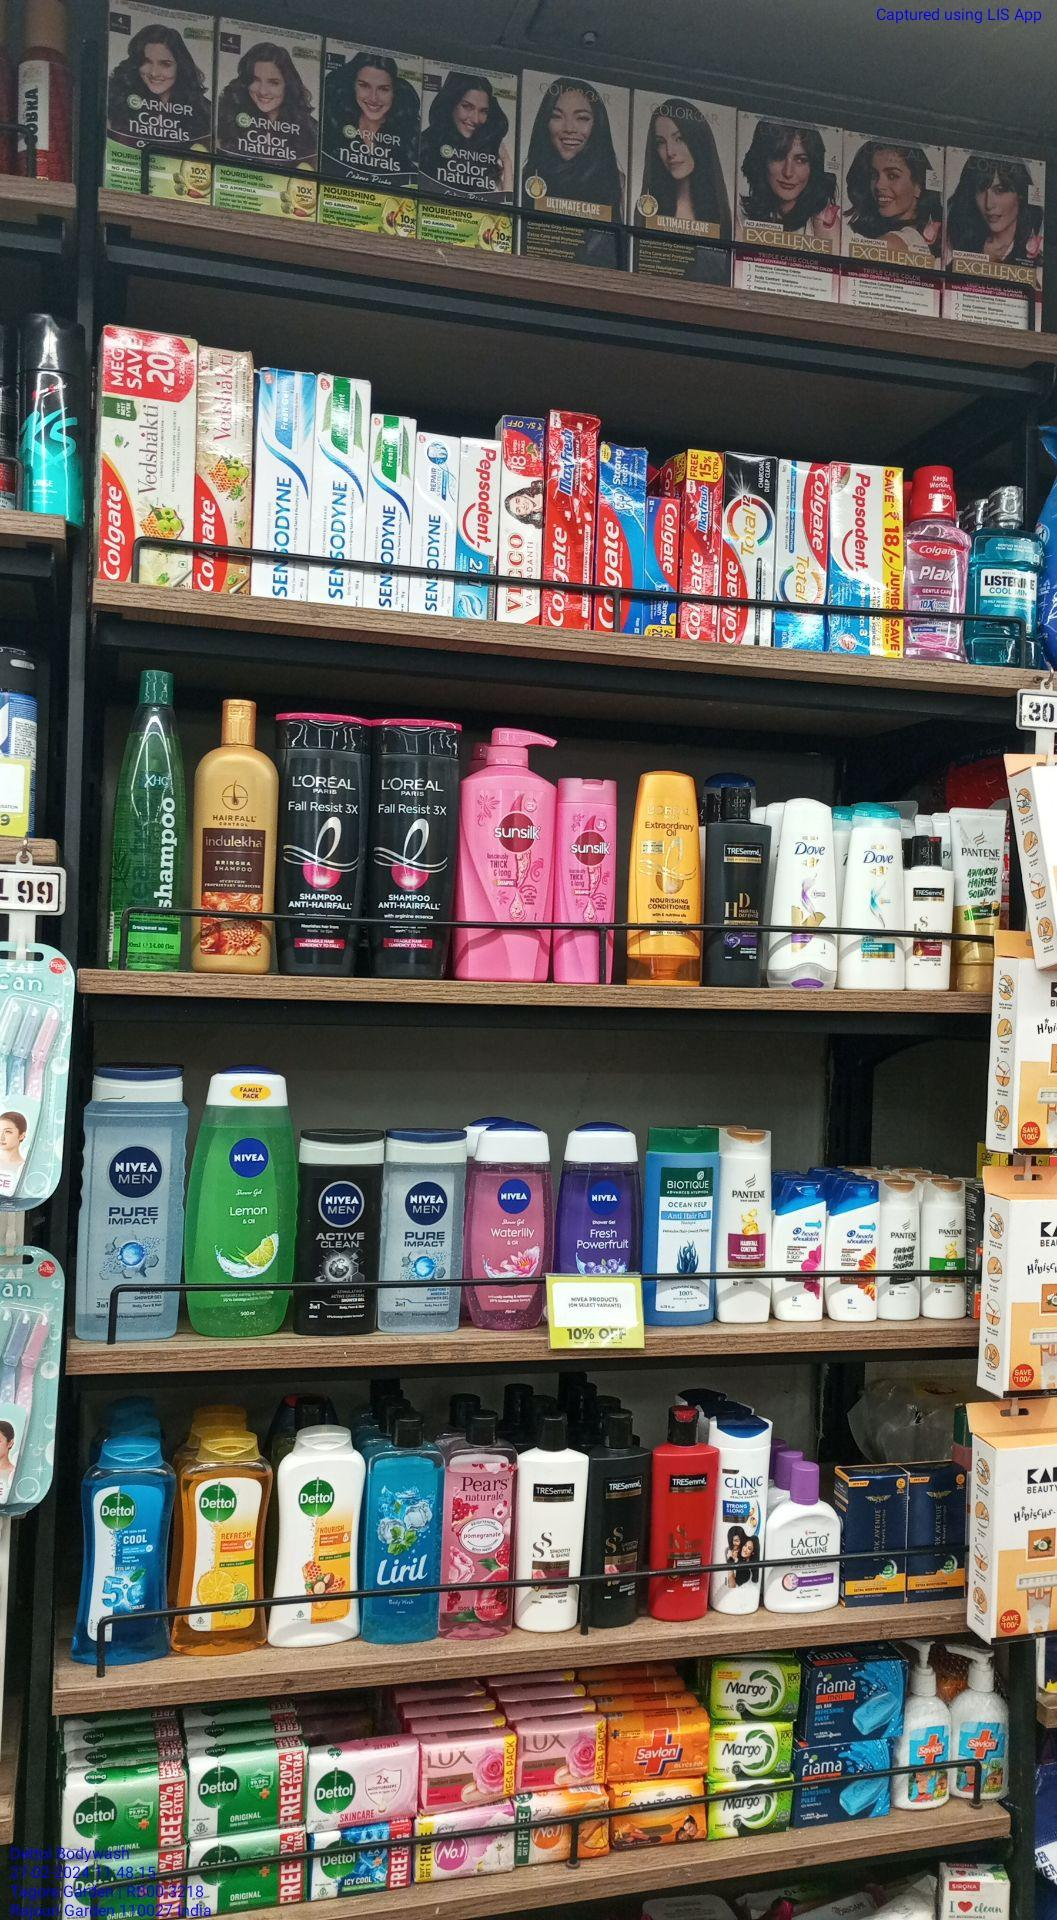Dettol_Bodywash_Cool: (81, 1444, 171, 1666)
Dettol_Bodywash_Refresh: (180, 1437, 267, 1660)
Dettol_Nourish_Body_Wash_250ML: (275, 1432, 359, 1651)
Liril_Cooling_Mint_Body_Wash_250ML: (364, 1415, 444, 1648)
Nivea_Shower_Gel_Fresh_Powerfruit_250ML: (562, 1121, 642, 1286)
Nivea_Shower_Gel_Lemon_and_Oil_250ML: (195, 1065, 295, 1343)
Nivea_Shower_Gel_Waterlily_and_Oil_250ML: (471, 1125, 556, 1332)
